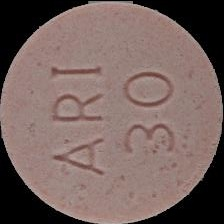48433-120: (0, 0, 224, 224)
